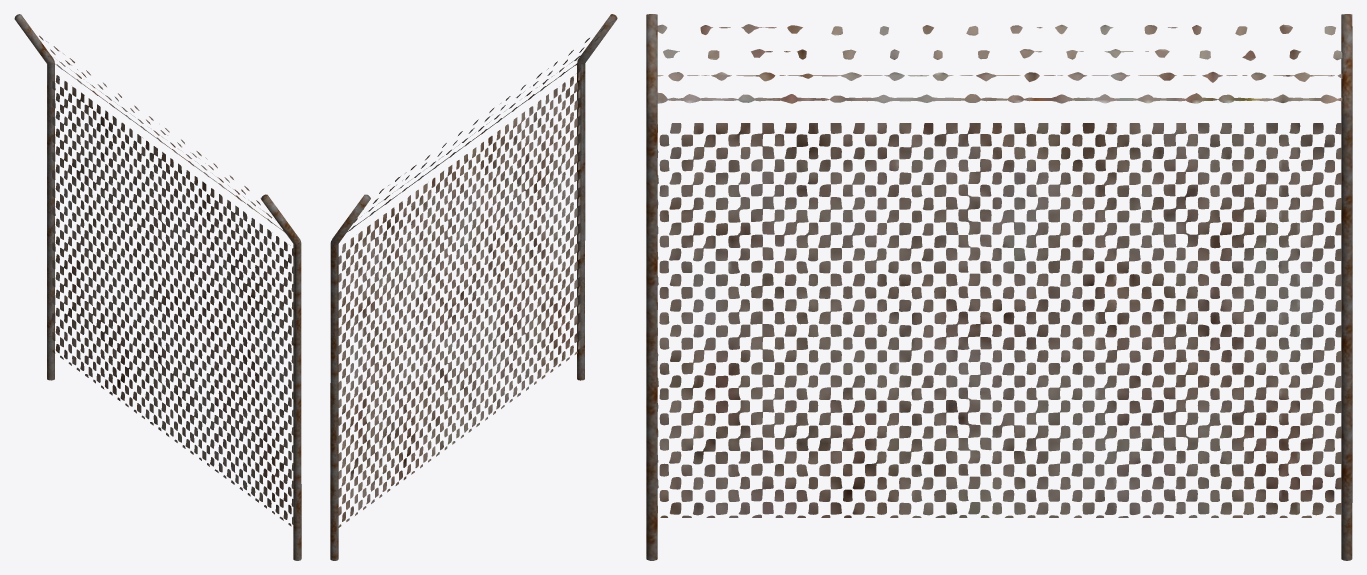
File: bw-fence.lod1.glb
3 renders of one model, left to right at view 1: azimuth 30°, elevation 25°; view 2: azimuth 150°, elevation 25°; view 3: azimuth 270°, elevation 25°, orthographic. The views are drawn at different scales.
Parts seen in each view (by area): view 1: Object_4; view 2: Object_4; view 3: Object_4.
Part boxes in pixels (x1,y1,x2,y2): Object_4: (14, 14, 301, 560); Object_4: (330, 14, 617, 560); Object_4: (646, 14, 1352, 560).
Size of the model in its own units: 0.3547 by 3.2 by 3.91.
1 material, 1 textured.
